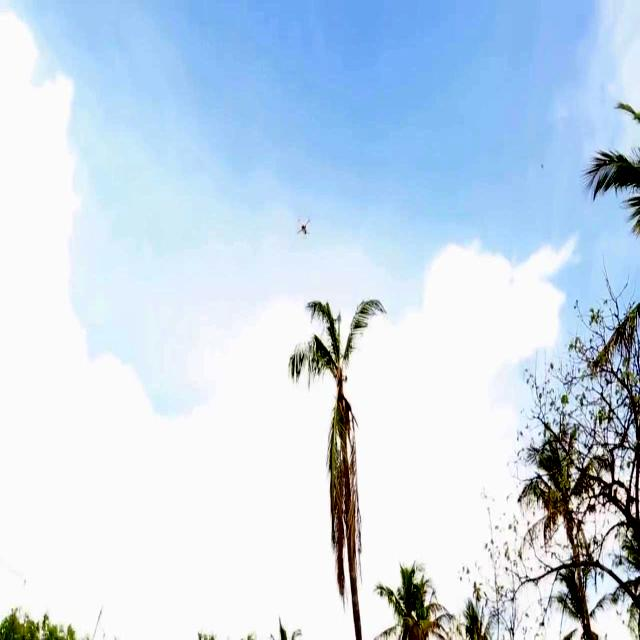drone: (295, 210, 311, 240)
